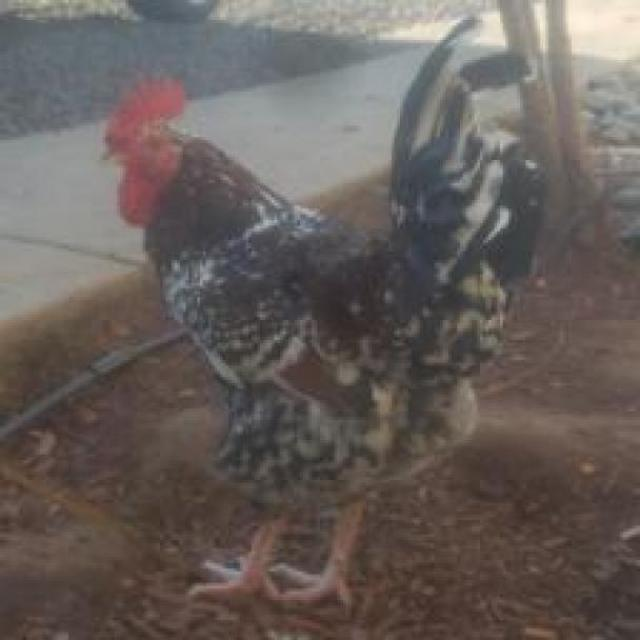Chicken: (53, 11, 559, 640)
